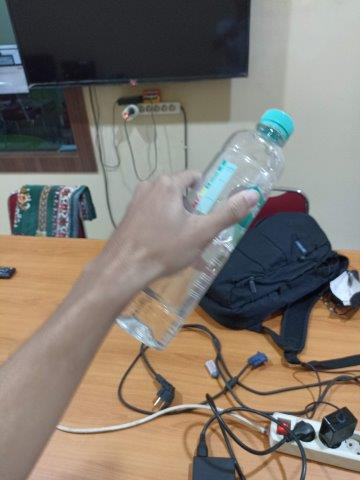botolplastik: (114, 107, 295, 351)
